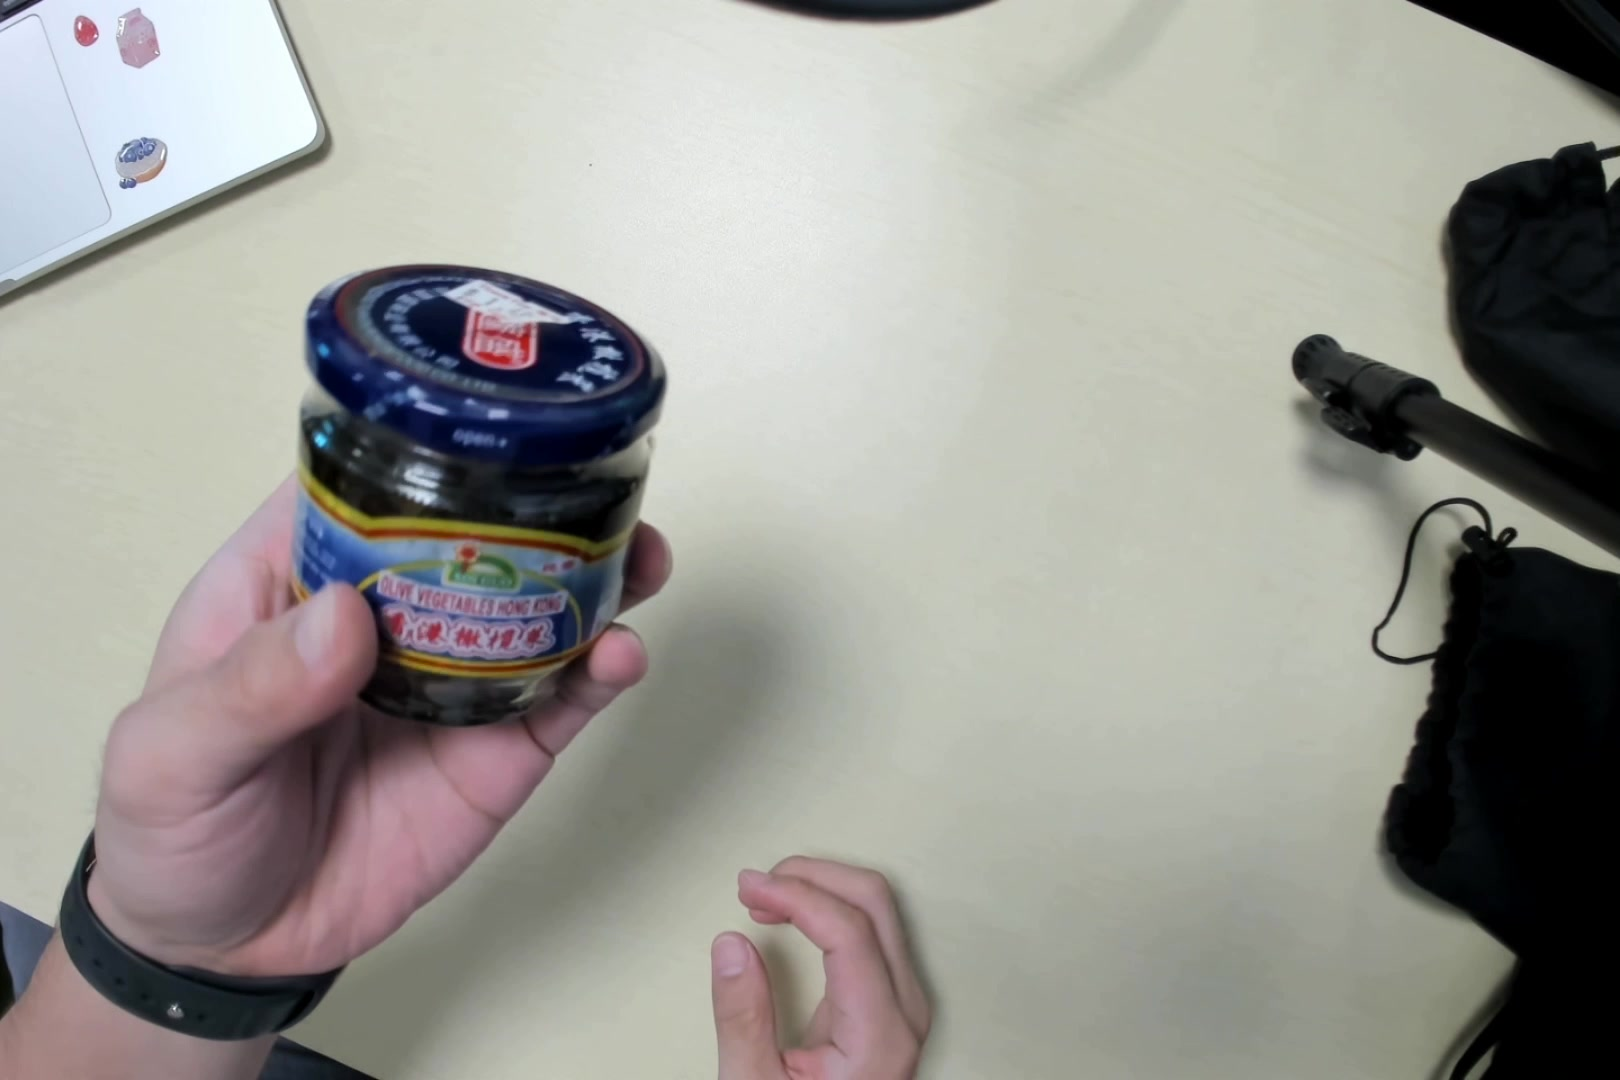OtherCannedVegetables_100-199g_Halal_NonHealthy: (290, 264, 664, 735)
